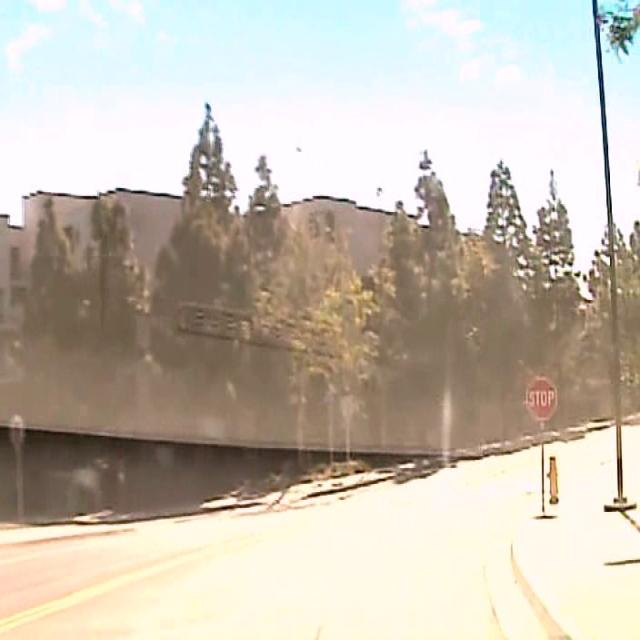stop: (526, 375, 558, 420)
